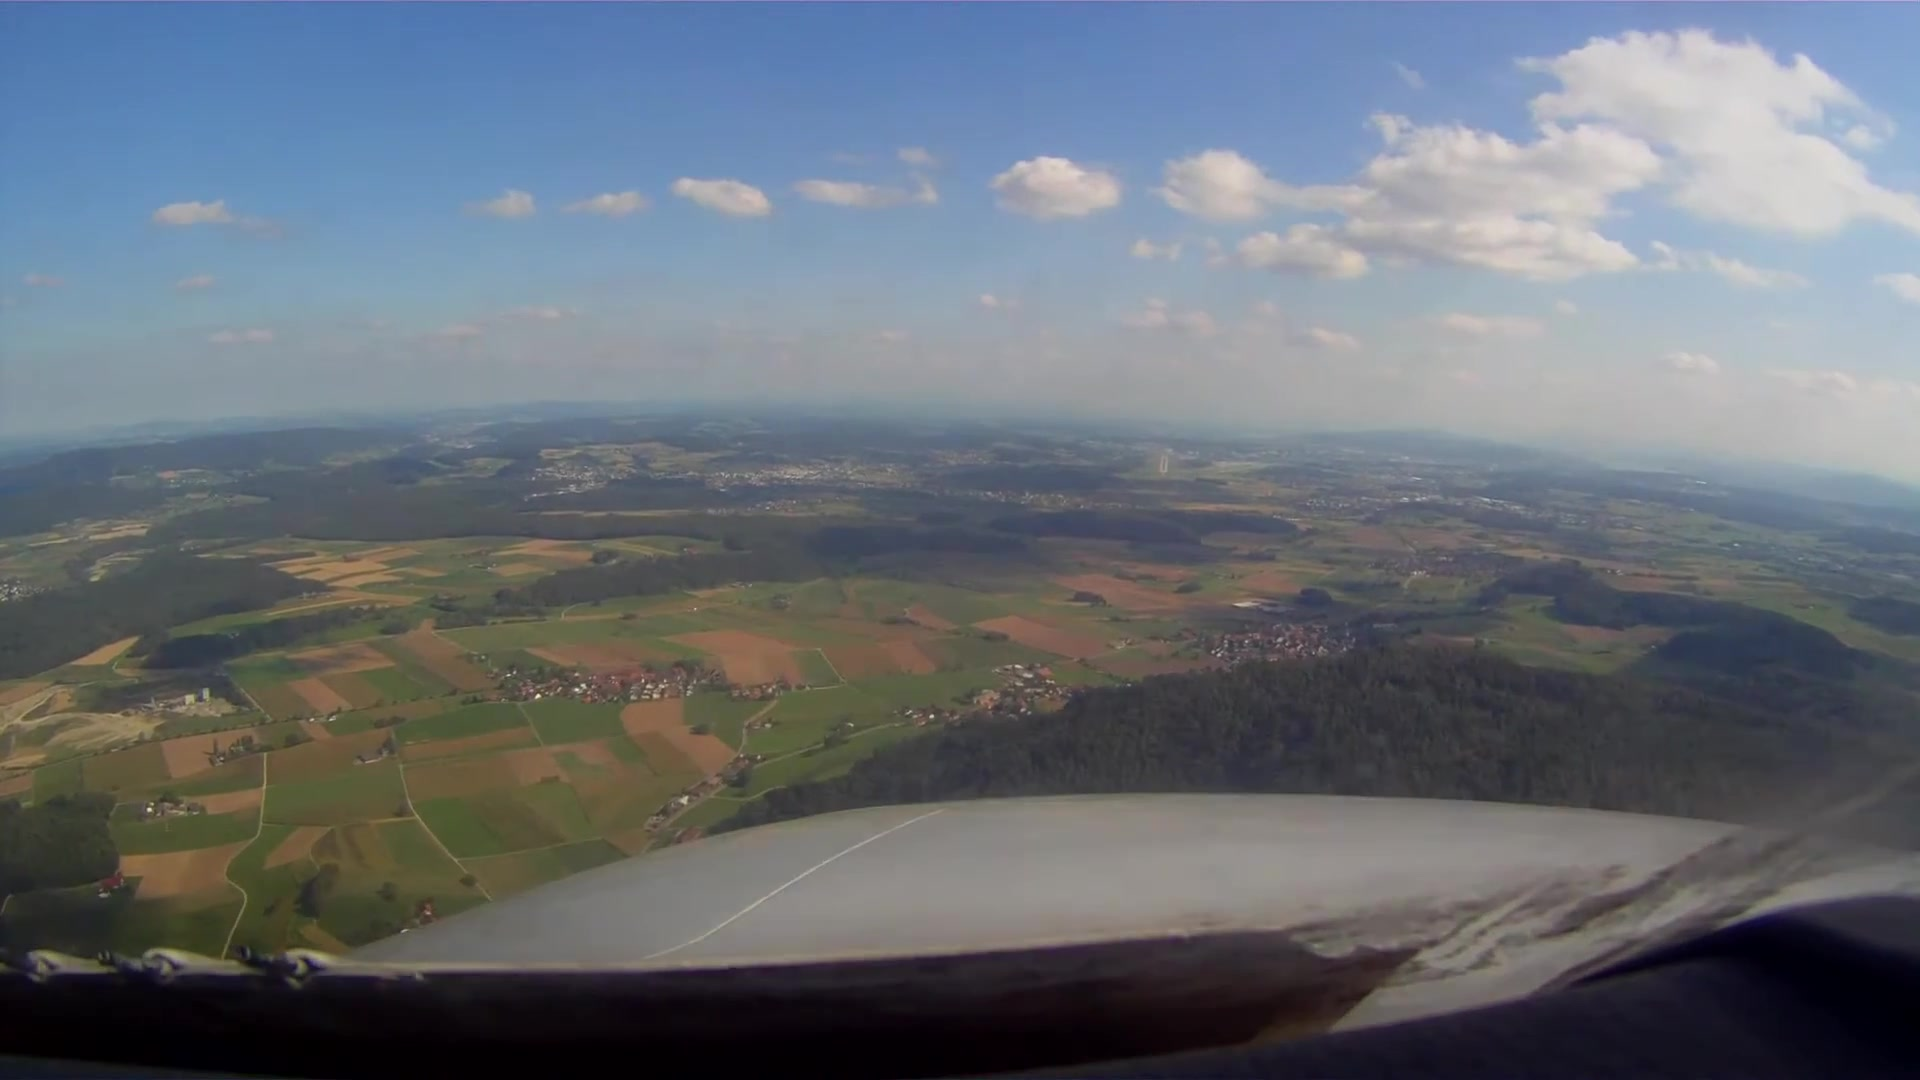runway: (1158, 458, 1168, 473)
